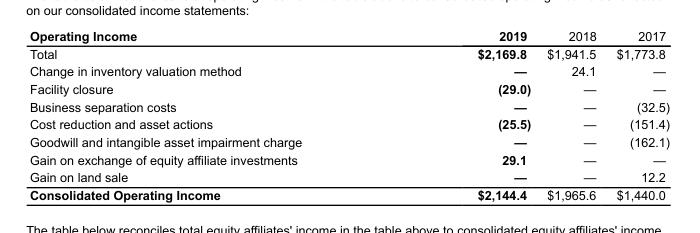table: (28, 28, 669, 201)
table column: (28, 28, 388, 201), (388, 28, 538, 201), (538, 28, 605, 201), (605, 28, 669, 201)
table column header: (28, 28, 669, 44)
table row: (28, 44, 669, 62), (28, 79, 669, 97), (28, 97, 669, 115), (28, 132, 669, 150), (28, 150, 669, 168), (28, 62, 669, 79), (28, 115, 669, 132), (28, 168, 669, 185), (28, 28, 669, 44), (28, 185, 669, 201)
